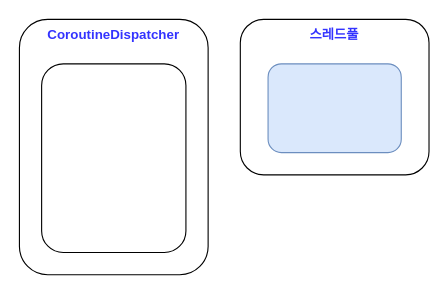
The diagram is 448 pixels wide and 294 high, and some of its shapes have lost their labels. The centre of each missing label's shape, as x and y in pixels:
Single~: the point at 334,108
작업 대기열: the point at 113,158
